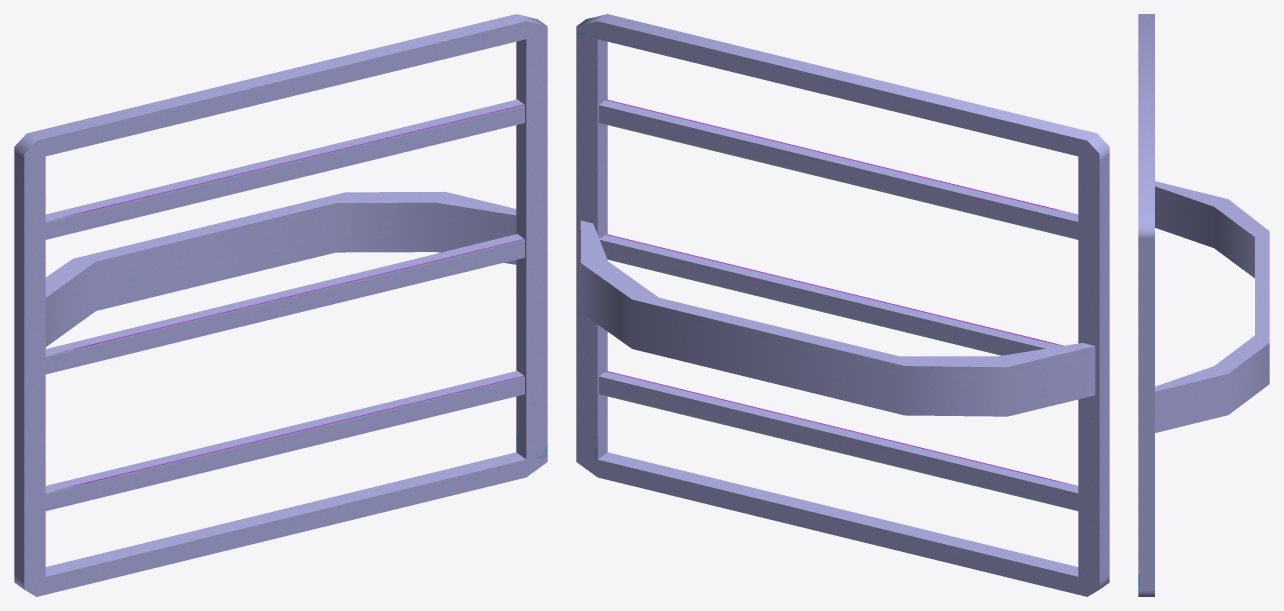
Rendered from LitFloodLightFrameA2.fbx.
3 renders of one model, left to right at view 1: azimuth 30°, elevation 25°; view 2: azimuth 150°, elevation 25°; view 3: azimuth 270°, elevation 25°, orthographic. The views are drawn at different scales.
Parts seen in each view (by area): view 1: LitFloodLightFrameA2; view 2: LitFloodLightFrameA2; view 3: LitFloodLightFrameA2.
Boxes of the visible parts, box(x1,y1,x2,y2) form: LitFloodLightFrameA2: box(14, 14, 547, 596); LitFloodLightFrameA2: box(576, 14, 1109, 596); LitFloodLightFrameA2: box(1138, 14, 1269, 596).
Size of the model in its own units: 97.75 by 81.4 by 25.3.
1 material, 1 textured.
